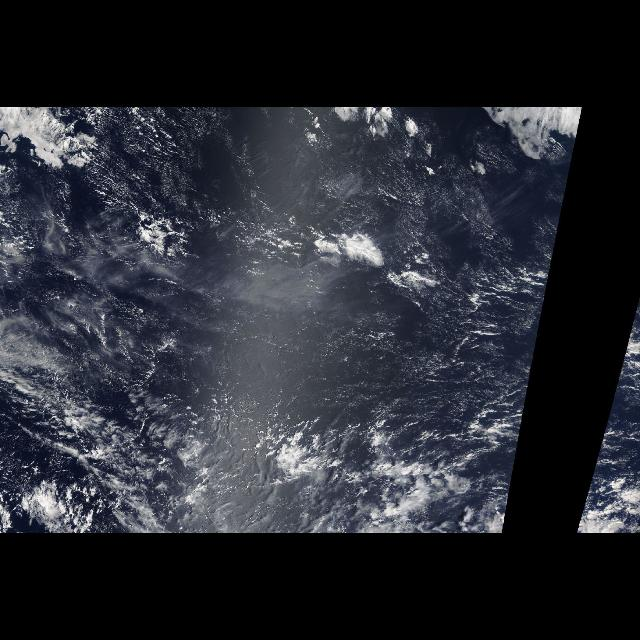Sugar: (52, 116, 556, 432), (607, 352, 625, 410)
